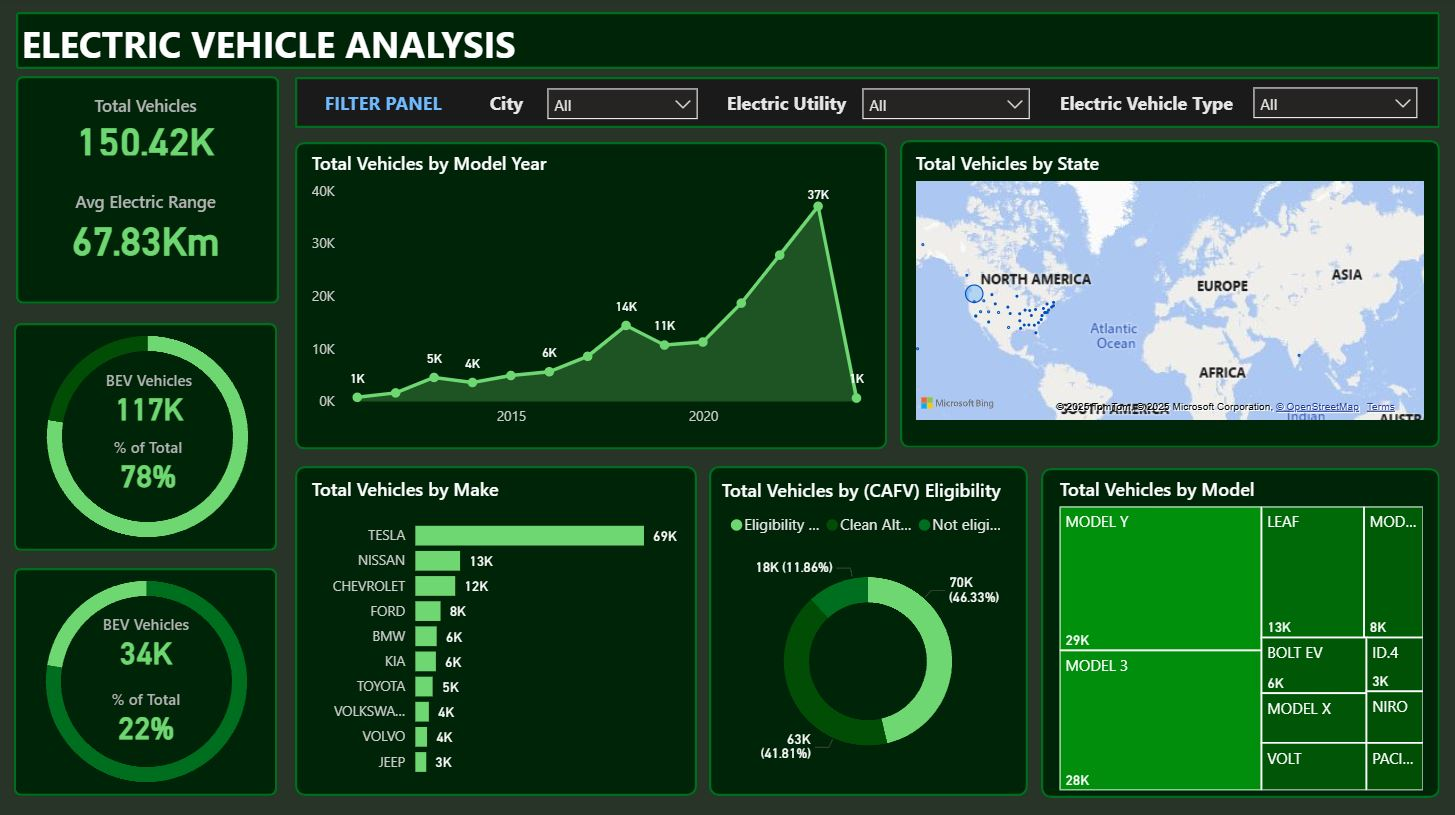

What the dashboard file says about the page in this screenshot:
{"tool":"powerbi","page":{"name":"Page 1","canvas":[1280,720],"ordinal":0},"visuals":[{"type":"shape","box":[14.9,12.3,1250.3,50],"z":0},{"type":"textbox","box":[14.9,12.3,462.7,57.1],"z":1000},{"type":"shape","box":[14.9,68.5,231,200],"z":2000},{"type":"card","title":"Total Vehicles","fields":{"Values":["Electric_Vehicle_Population_Data.Total Vehicles"]},"box":[13.2,84.3,230.9,58.8],"z":3000},{"type":"card","title":"Avg Electric Range","fields":{"Values":["Electric_Vehicle_Population_Data.Avg Range"]},"box":[13.2,168.6,230.9,65],"z":4000},{"type":"shape","box":[13.2,285.4,230.9,200.2],"z":5000},{"type":"shape","box":[13.2,500.5,230.9,200.2],"z":6000},{"type":"donutChart","fields":{"Category":["Electric_Vehicle_Population_Data.Electric Vehicle Type"],"Y":["Electric_Vehicle_Population_Data.Total Vehicles"]},"box":[0.9,269.6,259,230.9],"z":7000},{"type":"card","title":"BEV Vehicles","fields":{"Values":["Electric_Vehicle_Population_Data.BEV Vehicles"]},"box":[58.8,326.6,145.8,50],"z":8000},{"type":"card","title":"% of Total","fields":{"Values":["Electric_Vehicle_Population_Data.% of BEV"]},"box":[58,385.5,145.8,50],"z":9000},{"type":"donutChart","fields":{"Category":["Electric_Vehicle_Population_Data.Electric Vehicle Type"],"Y":["Electric_Vehicle_Population_Data.Total Vehicles"]},"box":[0,484.7,259,230.9],"z":10000},{"type":"card","title":"BEV Vehicles","fields":{"Values":["Electric_Vehicle_Population_Data.PHEV Vehicles"]},"box":[56.2,540.9,145.8,50],"z":11000},{"type":"card","title":"% of Total","fields":{"Values":["Electric_Vehicle_Population_Data.% of PHEV"]},"box":[56.2,606.7,145.8,50],"z":12000},{"type":"shape","box":[259.9,69.4,1005.4,44.8],"z":13000},{"type":"shape","box":[259.9,126.4,520,270],"z":14000},{"type":"areaChart","fields":{"Category":["Electric_Vehicle_Population_Data.Model Year"],"Y":["Electric_Vehicle_Population_Data.Total Vehicles"]},"box":[269.6,134.3,501.4,251.1],"z":15000},{"type":"shape","box":[791.1,124.7,474.1,270.4],"z":16000},{"type":"map","fields":{"Category":["Electric_Vehicle_Population_Data.State"],"Size":["Electric_Vehicle_Population_Data.Total Vehicles"]},"box":[799.9,134.3,455.7,240.6],"z":17000},{"type":"shape","box":[259.9,410.9,353,289.8],"z":18000},{"type":"barChart","fields":{"Category":["Electric_Vehicle_Population_Data.Make"],"Y":["Electric_Vehicle_Population_Data.Total Vehicles"]},"box":[269.6,420.6,331,273.1],"z":19000},{"type":"shape","box":[623.4,410.9,280.1,289.8],"z":20000},{"type":"donutChart","title":"Total Vehicles by (CAFV) Eligibility","fields":{"Y":["Electric_Vehicle_Population_Data.Total Vehicles"],"Category":["Electric_Vehicle_Population_Data.Clean Alternative Fuel Vehicle (CAFV) Eligibility"]},"box":[629.6,421.5,266.9,272.2],"z":21000},{"type":"shape","box":[914.9,412.7,350.3,289.8],"z":22000},{"type":"treemap","fields":{"Group":["Electric_Vehicle_Population_Data.Model"],"Values":["Electric_Vehicle_Population_Data.Total Vehicles"]},"box":[926.3,420.6,329.3,280.1],"z":23000},{"type":"textbox","box":[281,76.4,130,48.3],"z":24000},{"type":"slicer","fields":{"Values":["Electric_Vehicle_Population_Data.City"]},"box":[471.5,69.4,151.9,48.3],"z":25000},{"type":"textbox","box":[425.9,76.4,45.7,48.3],"z":26000},{"type":"textbox","box":[634,76.4,129.1,48.3],"z":27000},{"type":"slicer","fields":{"Values":["Electric_Vehicle_Population_Data.Electric Utility"]},"box":[748.1,69.4,166.8,48.3],"z":28000},{"type":"slicer","fields":{"Values":["Electric_Vehicle_Population_Data.Electric Vehicle Type"]},"box":[1091.4,68.5,164.2,48.3],"z":29000},{"type":"textbox","box":[926.3,76.4,173.9,48.3],"z":30000}]}

Visuals, with their boxes in screenshot pixels (x1, y1, x2, y2), scaled from the page's 1280x720 canvas onto the 1455x815 screenshot:
shape: {"x1": 17, "y1": 14, "x2": 1438, "y2": 71}
textbox: {"x1": 17, "y1": 14, "x2": 543, "y2": 79}
shape: {"x1": 17, "y1": 78, "x2": 280, "y2": 304}
"Total Vehicles" card: {"x1": 15, "y1": 95, "x2": 277, "y2": 162}
"Avg Electric Range" card: {"x1": 15, "y1": 191, "x2": 277, "y2": 264}
shape: {"x1": 15, "y1": 323, "x2": 277, "y2": 550}
shape: {"x1": 15, "y1": 567, "x2": 277, "y2": 793}
donutChart - Electric_Vehicle_Population_Data.Electric Vehicle Type x Electric_Vehicle_Population_Data.Total Vehicles: {"x1": 1, "y1": 305, "x2": 295, "y2": 567}
"BEV Vehicles" card: {"x1": 67, "y1": 370, "x2": 233, "y2": 426}
"% of Total" card: {"x1": 66, "y1": 436, "x2": 232, "y2": 493}
donutChart - Electric_Vehicle_Population_Data.Electric Vehicle Type x Electric_Vehicle_Population_Data.Total Vehicles: {"x1": 0, "y1": 549, "x2": 294, "y2": 810}
"BEV Vehicles" card: {"x1": 64, "y1": 612, "x2": 230, "y2": 669}
"% of Total" card: {"x1": 64, "y1": 687, "x2": 230, "y2": 743}
shape: {"x1": 295, "y1": 79, "x2": 1438, "y2": 129}
shape: {"x1": 295, "y1": 143, "x2": 887, "y2": 449}
areaChart - Electric_Vehicle_Population_Data.Model Year x Electric_Vehicle_Population_Data.Total Vehicles: {"x1": 306, "y1": 152, "x2": 876, "y2": 436}
shape: {"x1": 899, "y1": 141, "x2": 1438, "y2": 447}
map - Electric_Vehicle_Population_Data.State x Electric_Vehicle_Population_Data.Total Vehicles: {"x1": 909, "y1": 152, "x2": 1427, "y2": 424}
shape: {"x1": 295, "y1": 465, "x2": 697, "y2": 793}
barChart - Electric_Vehicle_Population_Data.Make x Electric_Vehicle_Population_Data.Total Vehicles: {"x1": 306, "y1": 476, "x2": 683, "y2": 785}
shape: {"x1": 709, "y1": 465, "x2": 1027, "y2": 793}
"Total Vehicles by (CAFV) Eligibility" donutChart: {"x1": 716, "y1": 477, "x2": 1019, "y2": 785}
shape: {"x1": 1040, "y1": 467, "x2": 1438, "y2": 795}
treemap - Electric_Vehicle_Population_Data.Model x Electric_Vehicle_Population_Data.Total Vehicles: {"x1": 1053, "y1": 476, "x2": 1427, "y2": 793}
textbox: {"x1": 319, "y1": 86, "x2": 467, "y2": 141}
slicer - Electric_Vehicle_Population_Data.City: {"x1": 536, "y1": 79, "x2": 709, "y2": 133}
textbox: {"x1": 484, "y1": 86, "x2": 536, "y2": 141}
textbox: {"x1": 721, "y1": 86, "x2": 867, "y2": 141}
slicer - Electric_Vehicle_Population_Data.Electric Utility: {"x1": 850, "y1": 79, "x2": 1040, "y2": 133}
slicer - Electric_Vehicle_Population_Data.Electric Vehicle Type: {"x1": 1241, "y1": 78, "x2": 1427, "y2": 132}
textbox: {"x1": 1053, "y1": 86, "x2": 1251, "y2": 141}
